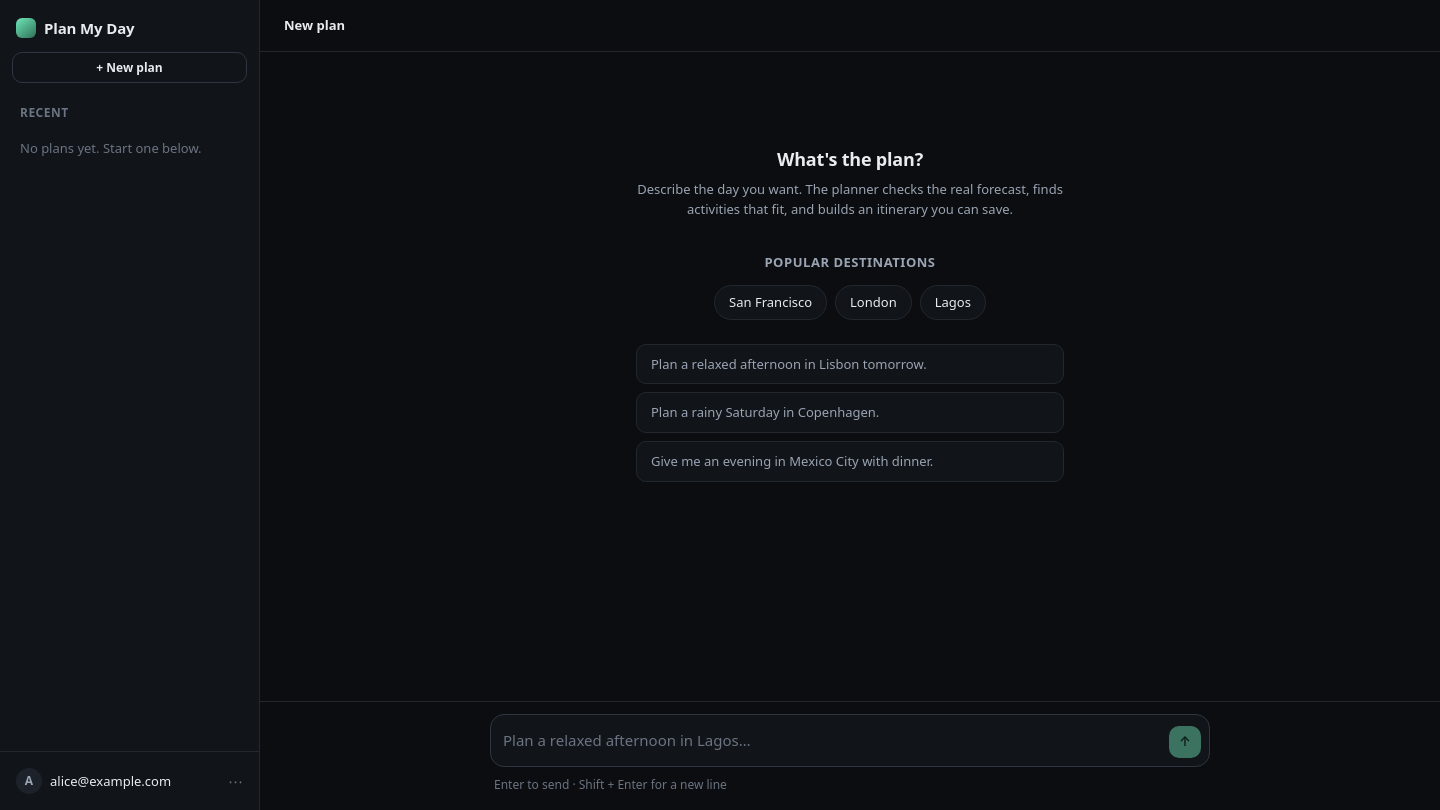
Test: AI key control (BYOK) › offers a key when neither a session nor a server key exists
This screenshot has width=1440, height=810.
Click the button "A alice@example.com ⋯" at [130, 781], box [8, 760, 251, 802]
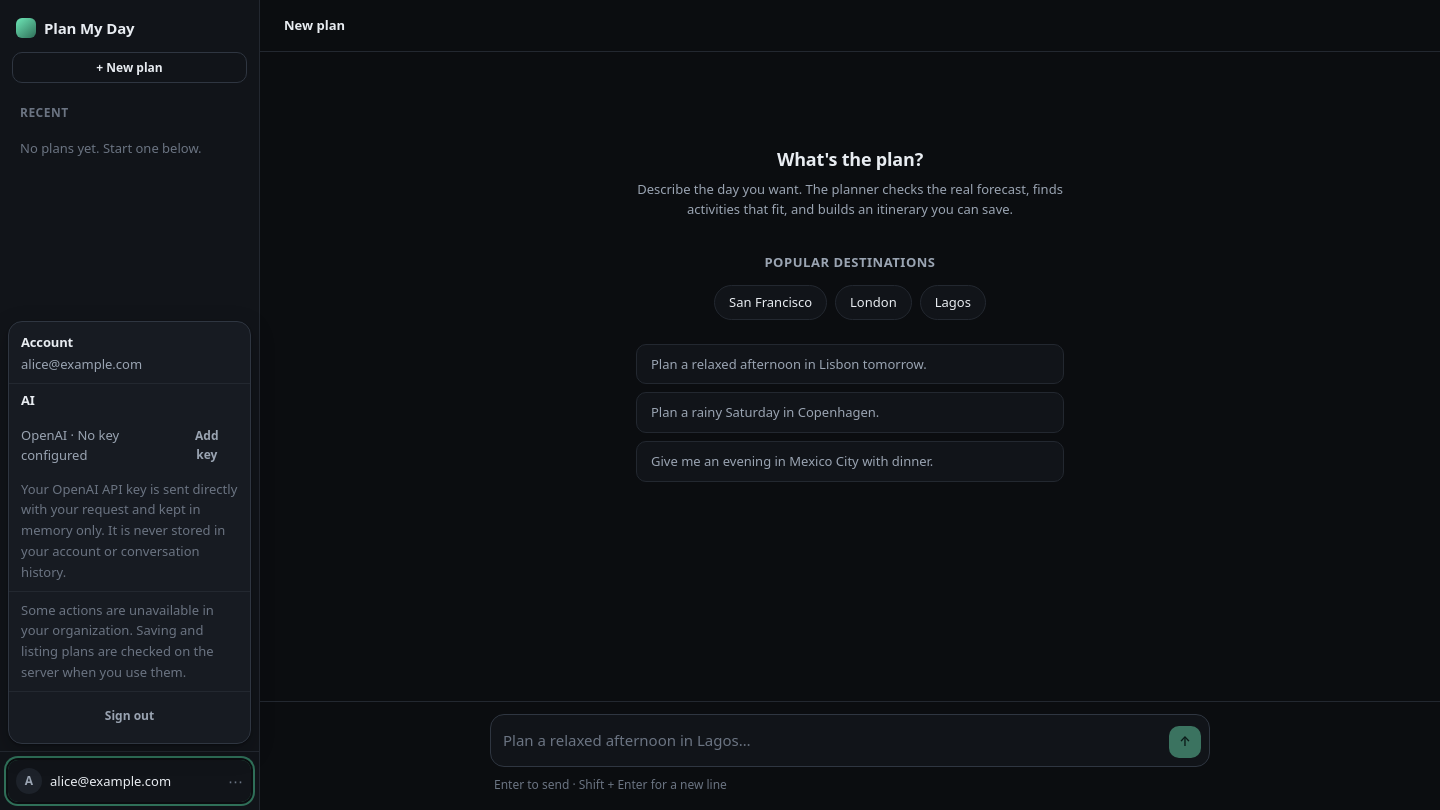
expect the button "Add key" is shown: met, box [176, 420, 238, 471]
expect the text "OpenAI · No key configured" is shown: met, box [21, 426, 119, 464]
